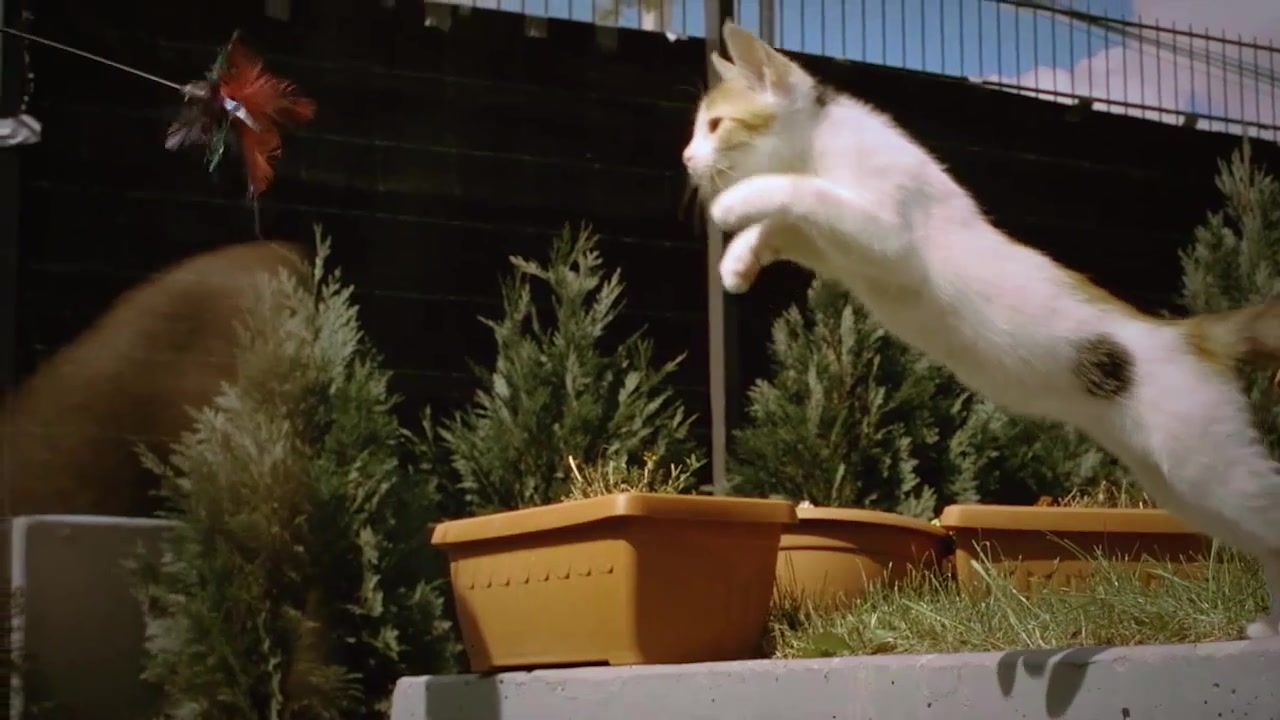cat: (680, 24, 1280, 642)
